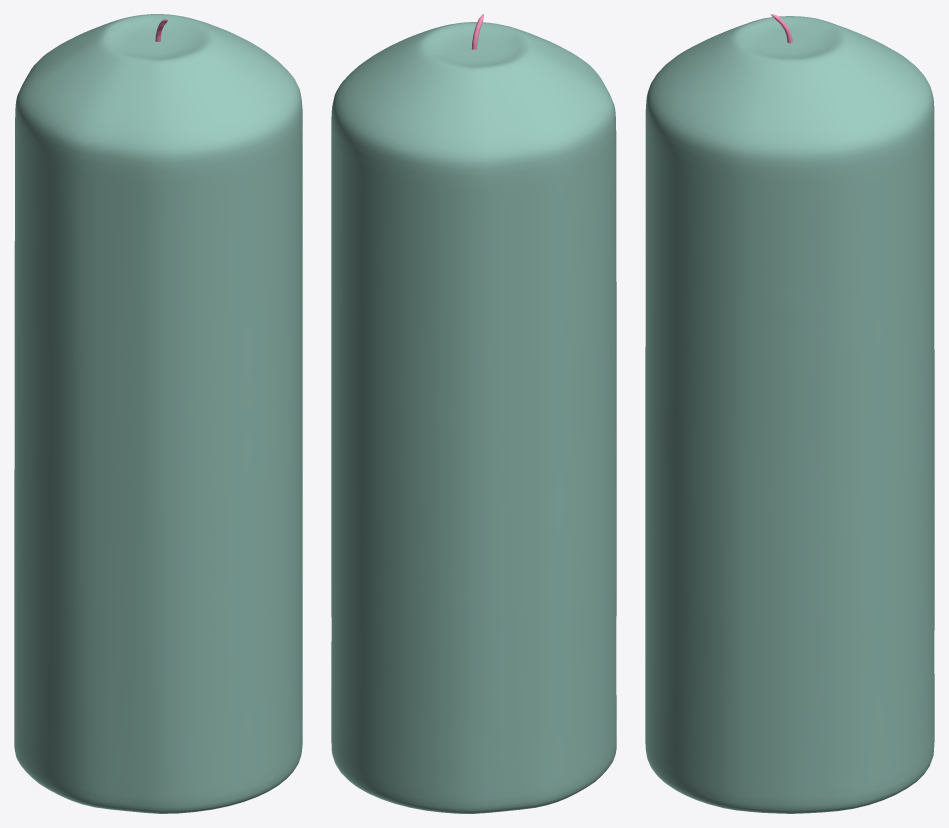
Rendered from Candle Style1.fbx.
3 renders of one model, left to right at view 1: azimuth 30°, elevation 25°; view 2: azimuth 150°, elevation 25°; view 3: azimuth 270°, elevation 25°, orthographic.
Visible parts, largest first — view 1: Bougie_longue_neuve; view 2: Bougie_longue_neuve; view 3: Bougie_longue_neuve.
Part boxes in pixels (x1,y1,x2,y2): Bougie_longue_neuve: (14,14,302,813); Bougie_longue_neuve: (331,14,616,813); Bougie_longue_neuve: (645,14,934,813).
Size of the model in its own units: 7.15 by 20.62 by 7.26.
